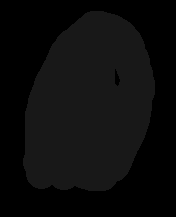fp: (21, 5, 157, 195)
